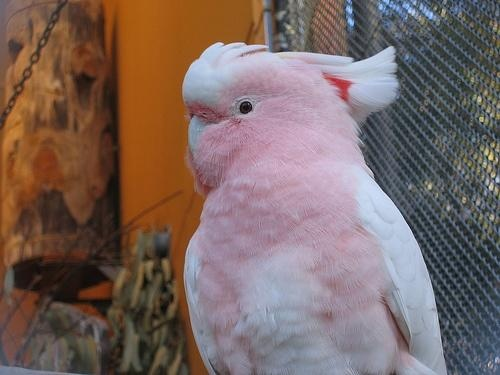bird: (180, 39, 452, 375)
